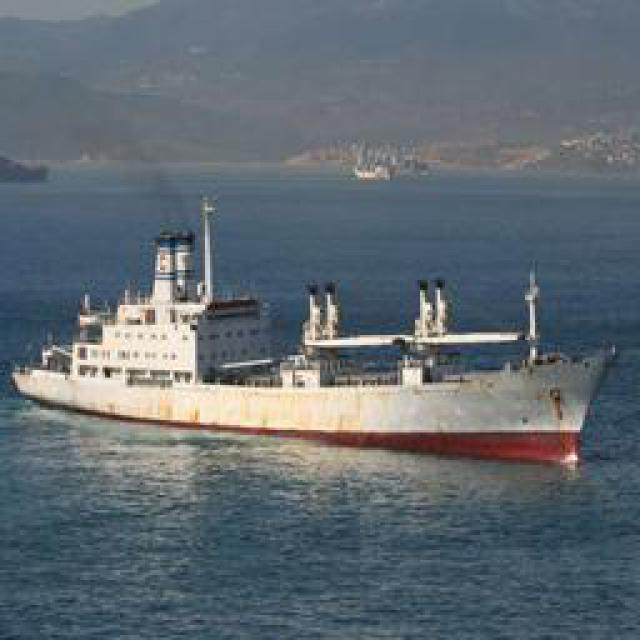Ship: (16, 209, 614, 464)
